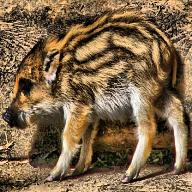boar: (2, 7, 189, 182)
